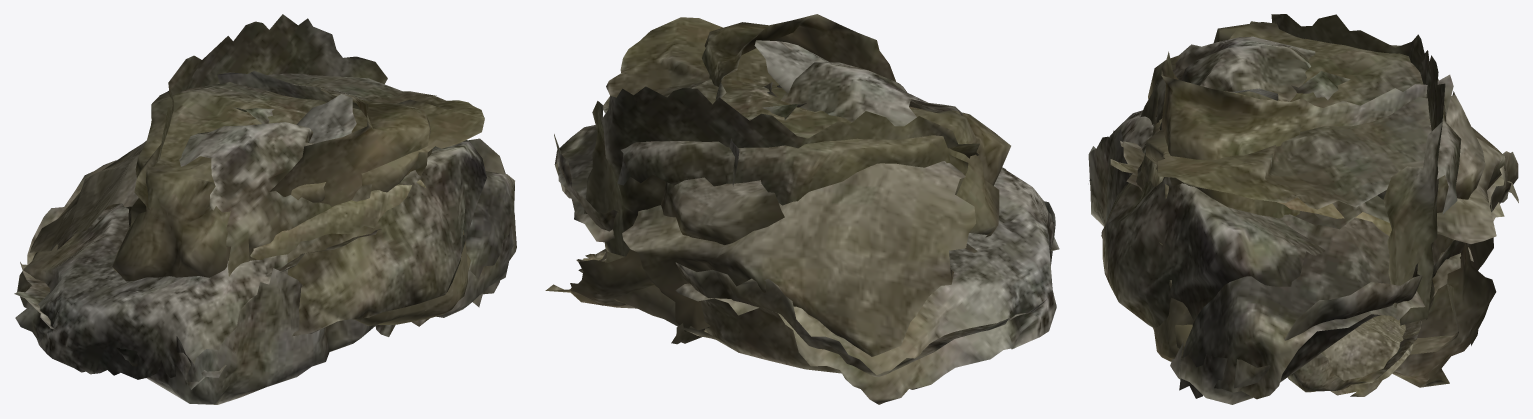
Rendered from rock_moss_set_02.glb.
3 views of the same model, side by side, from view 1: azimuth 30°, elevation 25°; view 2: azimuth 150°, elevation 25°; view 3: azimuth 270°, elevation 25° (orthographic). The views are drawn at different scales.
Parts seen in each view (by area): view 1: part_7, part_4, part_8, part_3, part_14, part_12, part_2, part_16; view 2: part_7, part_8, part_4, part_12, part_3, part_14, part_17, part_11, part_16, part_2; view 3: part_7, part_8, part_4, part_14, part_12, part_3, part_11, part_6, part_17, part_2, part_0, part_13.
Part boxes in pixels (<box>): part_7: <box>29,122,486,336</box>; part_4: <box>15,171,516,389</box>; part_8: <box>112,73,484,281</box>; part_3: <box>14,138,515,404</box>; part_14: <box>217,71,470,310</box>; part_12: <box>131,14,387,225</box>; part_2: <box>250,179,467,325</box>; part_16: <box>296,94,372,201</box>; part_7: <box>622,62,975,356</box>; part_8: <box>603,17,1010,237</box>; part_4: <box>554,125,1059,404</box>; part_12: <box>584,86,979,256</box>; part_3: <box>554,134,1055,376</box>; part_14: <box>702,14,895,186</box>; part_17: <box>661,82,806,244</box>; part_11: <box>545,243,977,308</box>; part_16: <box>754,40,829,93</box>; part_2: <box>606,252,720,340</box>; part_7: <box>1101,36,1505,328</box>; part_8: <box>1145,22,1461,214</box>; part_4: <box>1089,110,1518,399</box>; part_14: <box>1161,51,1453,350</box>; part_12: <box>1250,14,1445,325</box>; part_3: <box>1088,129,1518,404</box>; part_11: <box>1110,140,1496,387</box>; part_6: <box>1321,315,1413,396</box>; part_17: <box>1291,71,1485,265</box>; part_2: <box>1141,117,1458,361</box>; part_0: <box>1287,320,1421,392</box>; part_13: <box>1277,197,1391,236</box>.
Size of the model in its own units: 2.2 by 1.08 by 1.55.
1 material, 1 textured.
